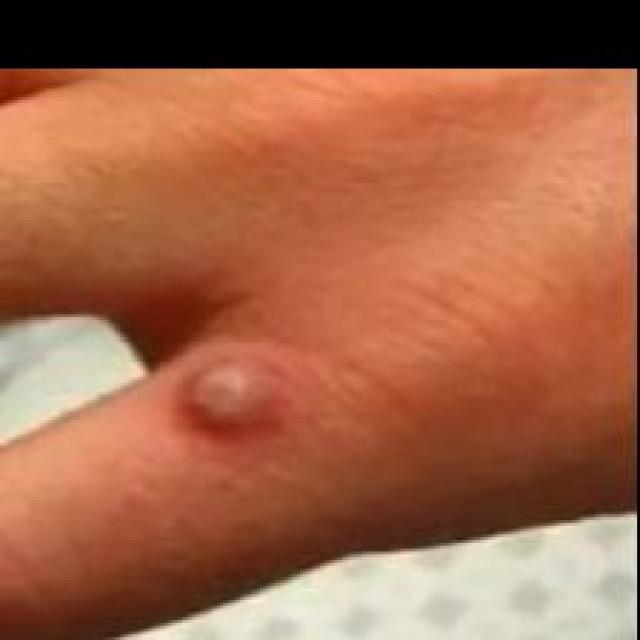monkeypox: (10, 197, 640, 539)
